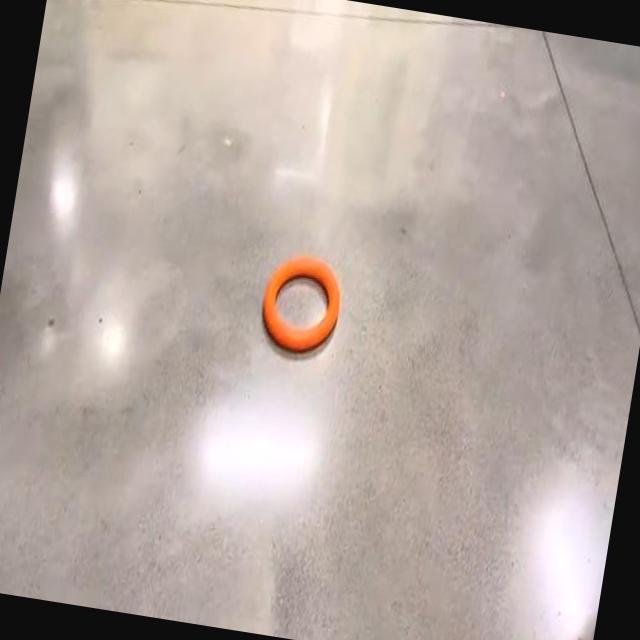note: (263, 254, 340, 351)
